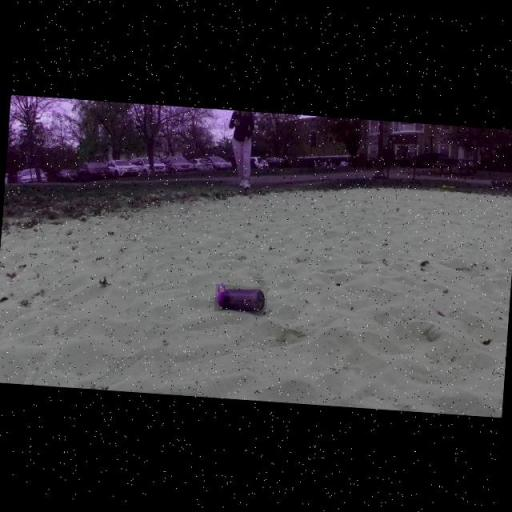bottle: (214, 284, 268, 316)
